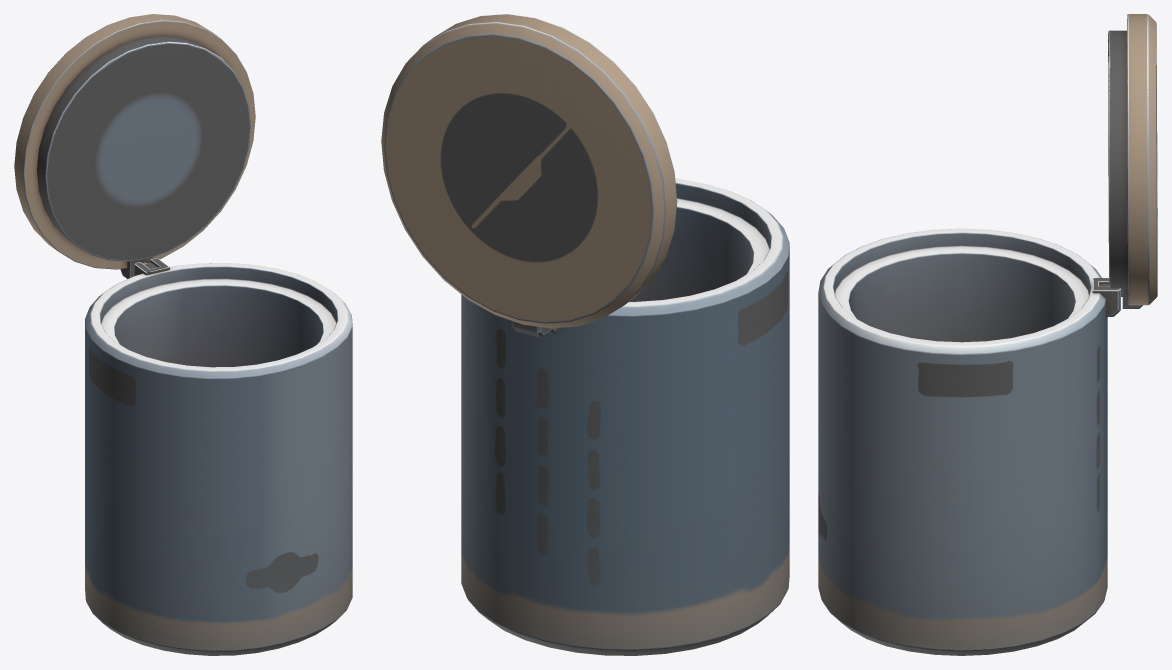
The model's file is basura.fbx.
3 renders of one model, left to right at view 1: azimuth 30°, elevation 25°; view 2: azimuth 150°, elevation 25°; view 3: azimuth 270°, elevation 25°, orthographic. The views are drawn at different scales.
Visible parts, largest first — view 1: TrashCan.001, TrashCan-Cap.001; view 2: TrashCan.001, TrashCan-Cap.001; view 3: TrashCan.001, TrashCan-Cap.001.
Part boxes in pixels (x1,y1,x2,y2): TrashCan.001: (85, 258, 352, 655); TrashCan-Cap.001: (14, 14, 255, 278); TrashCan.001: (461, 178, 789, 655); TrashCan-Cap.001: (381, 14, 677, 337); TrashCan.001: (818, 228, 1120, 655); TrashCan-Cap.001: (1108, 14, 1157, 308).
Bounding box in the file's own units: 57.42 × 123 × 66.1.
